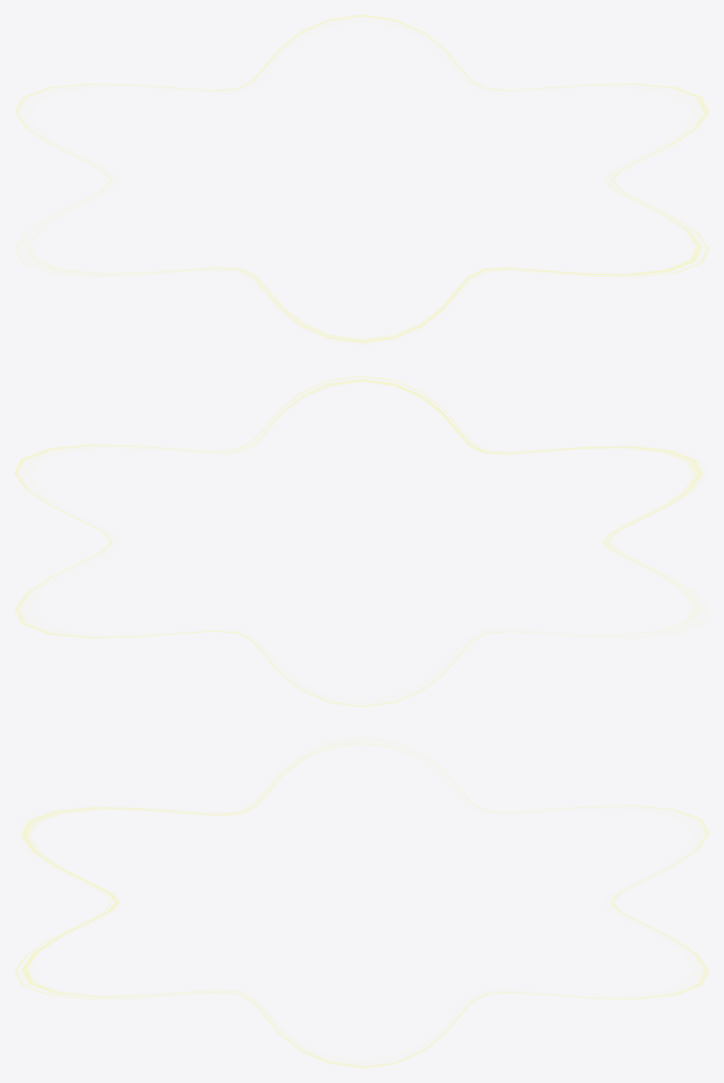
Rendered from effect.glb.
3 renders of one model, top to bottom at view 1: azimuth 30°, elevation 25°; view 2: azimuth 150°, elevation 25°; view 3: azimuth 270°, elevation 25°, orthographic.
Visible parts, largest first — view 1: ring 1 phase 1, ring 1 phase 2; view 2: ring 1 phase 1, ring 1 phase 2; view 3: ring 1 phase 1, ring 1 phase 2.
Boxes of the visible parts, x1=… form: ring 1 phase 1: x1=14, y1=14, x2=709, y2=346; ring 1 phase 2: x1=14, y1=14, x2=709, y2=346; ring 1 phase 1: x1=14, y1=375, x2=709, y2=707; ring 1 phase 2: x1=14, y1=375, x2=709, y2=707; ring 1 phase 1: x1=14, y1=736, x2=709, y2=1068; ring 1 phase 2: x1=14, y1=736, x2=709, y2=1068.
Size of what is drawn, in the model's own units: 0.000138 by 0 by 0.000122.
Materials: 7 (7 with a texture image).
